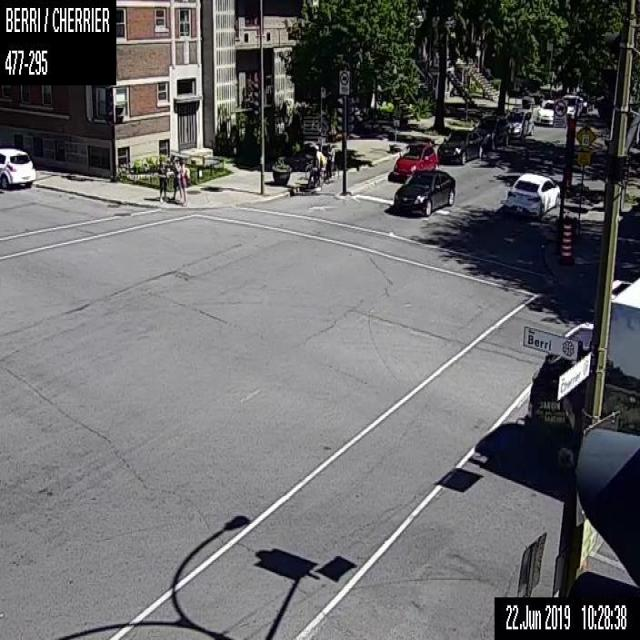construction: (562, 221, 572, 256)
cyclist: (306, 144, 327, 189), (326, 144, 338, 182)
pedestrian: (169, 159, 181, 203), (179, 162, 190, 206), (158, 160, 168, 203)
vehicle: (516, 274, 639, 469), (393, 169, 455, 216), (506, 172, 560, 220), (393, 142, 439, 178), (437, 128, 482, 164), (0, 145, 35, 187), (474, 114, 509, 150), (507, 109, 532, 139), (536, 99, 553, 125), (562, 95, 582, 117), (574, 90, 592, 112)
